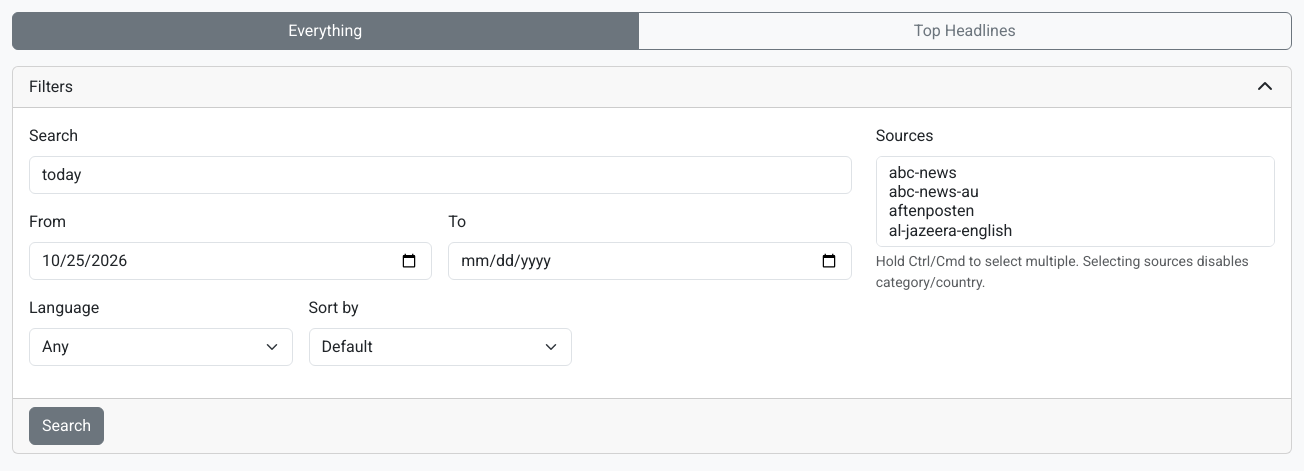
NewsFilterFormComponent › filter panel collapse › expands again on second header click
What coordinates should you click on to do the following:
click the button with class "card-header"
I would click on:
 (51, 86)
Its box is [13,67,1291,108].
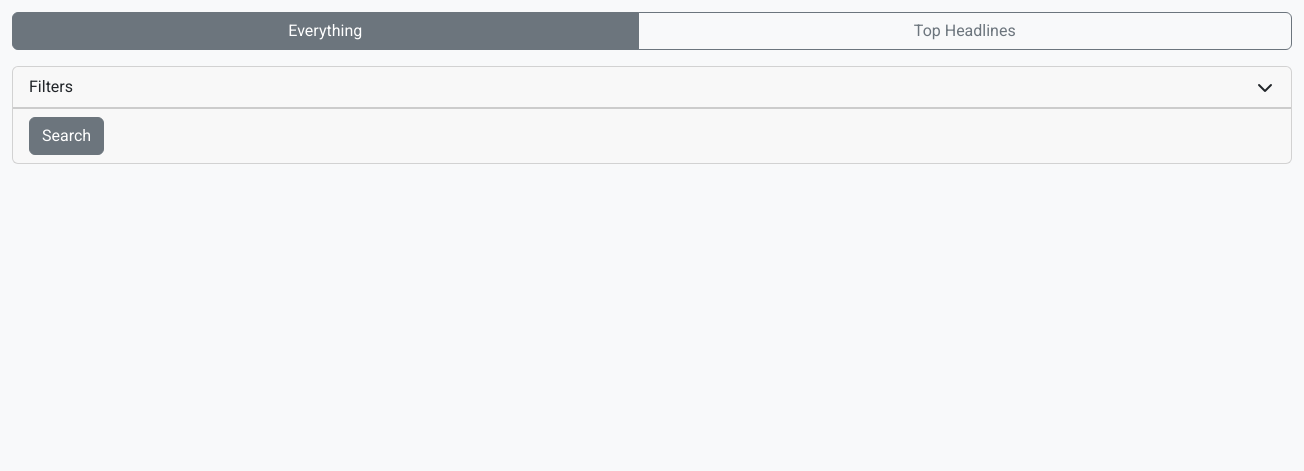
What coordinates should you click on to do the following:
click the button with class "card-header"
I would click on:
 (51, 86)
Its box is [13,67,1291,108].
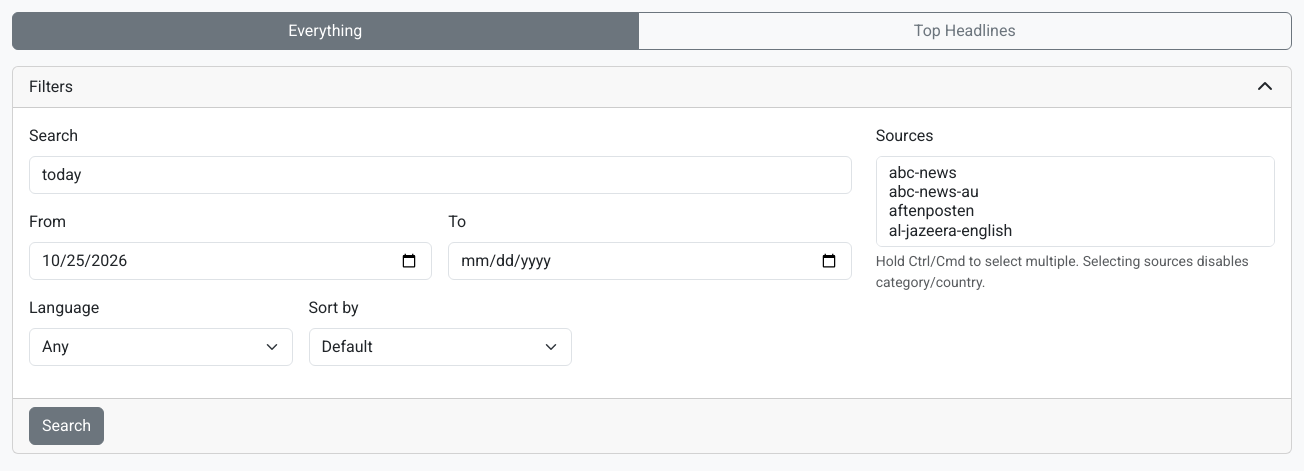
Check: the element with class "card-body" is shown
